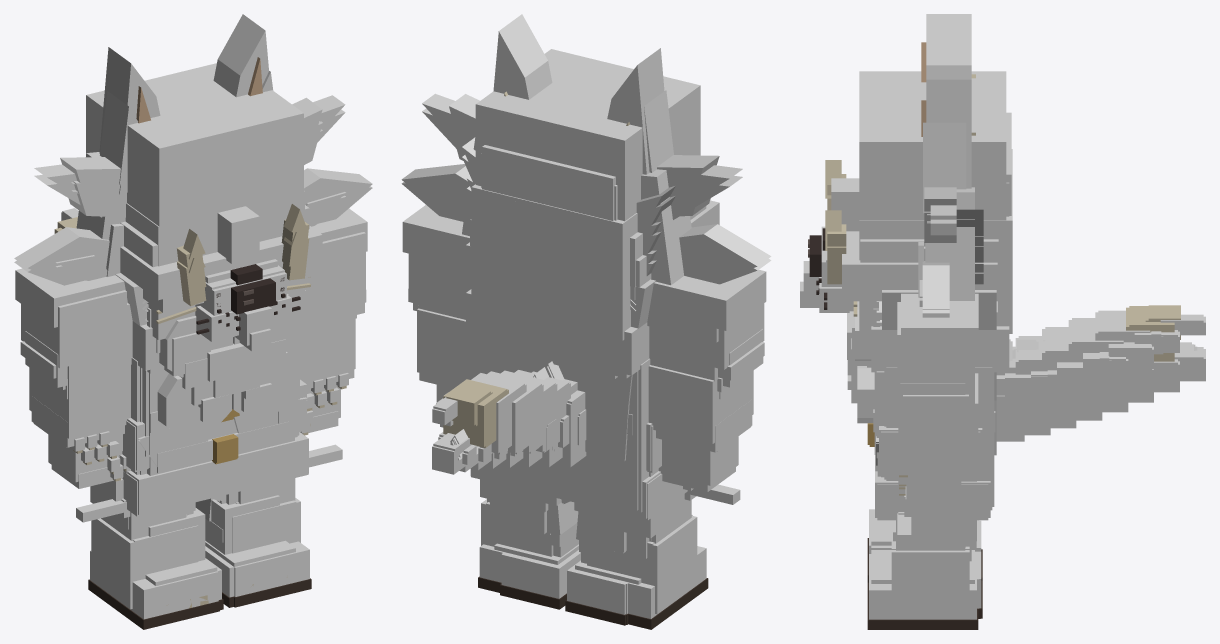
Rendered from race-kit.glb.
3 renders of one model, left to right at view 1: azimuth 30°, elevation 25°; view 2: azimuth 150°, elevation 25°; view 3: azimuth 270°, elevation 25°, orthographic. The views are drawn at different scales.
Visible parts, largest first — view 1: race-orc-male-head-cranium, race-orc-female-head-cranium, race-dwarf-female-torso-outfit-armor, race-orc-male-head-skin, race-dwarf-male-head-hair, race-goblin-male-head-skin, race-foxfolk-male-head-skin, race-orc-male-right-arm-skin, race-orc-female-head-skin, race-goblin-female-head-cranium, race-orc-female-right-arm-skin, race-dwarf-male-right-arm-outfit-armor (+56 smaller); view 2: race-goblin-female-head-cranium, race-orc-male-head-cranium, race-dwarf-female-torso-outfit-armor, race-orc-female-head-cranium, race-dwarf-female-head-cranium, race-dwarf-male-right-arm-outfit-armor, race-orc-male-torso-outfit-armor, race-foxfolk-male-head-cranium, race-foxfolk-male-head-skin, race-foxfolk-female-head-cranium, race-goblin-male-head-skin, race-orc-male-right-leg-leather-shoes (+55 smaller); view 3: race-orc-male-head-cranium, race-orc-female-head-cranium, race-orc-male-left-leg-leather-shoes, race-lizardfolk-male-tail-skin, race-dwarf-male-torso-outfit-armor, race-foxfolk-male-head-skin, race-orc-male-head-skin, race-dwarf-male-left-arm-outfit-armor, race-orc-male-left-arm-outfit-armor, race-orc-male-left-arm-skin, race-foxfolk-female-tail-skin, race-goblin-female-head-cranium (+29 smaller).
Boxes of the visible parts, x1,y1,x2,y2 form: race-orc-male-head-cranium: [86, 63, 309, 265]; race-orc-female-head-cranium: [86, 109, 309, 266]; race-dwarf-female-torso-outfit-armor: [127, 367, 308, 514]; race-orc-male-head-skin: [60, 97, 322, 300]; race-dwarf-male-head-hair: [164, 310, 296, 421]; race-goblin-male-head-skin: [14, 168, 372, 346]; race-foxfolk-male-head-skin: [99, 14, 277, 303]; race-orc-male-right-arm-skin: [21, 290, 126, 413]; race-orc-female-head-skin: [68, 121, 322, 312]; race-goblin-female-head-cranium: [125, 195, 304, 340]; race-orc-female-right-arm-skin: [34, 303, 132, 399]; race-dwarf-male-right-arm-outfit-armor: [29, 367, 130, 447]; race-goblin-female-head-cranium: [471, 191, 637, 340]; race-orc-male-head-cranium: [475, 49, 706, 269]; race-dwarf-female-torso-outfit-armor: [470, 342, 660, 518]; race-orc-female-head-cranium: [475, 100, 706, 287]; race-dwarf-female-head-cranium: [470, 299, 630, 379]; race-dwarf-male-right-arm-outfit-armor: [648, 365, 753, 452]; race-orc-male-torso-outfit-armor: [466, 242, 655, 461]; race-foxfolk-male-head-cranium: [482, 145, 615, 220]; race-foxfolk-male-head-skin: [493, 14, 664, 305]; race-foxfolk-female-head-cranium: [482, 153, 615, 220]; race-goblin-male-head-skin: [401, 164, 771, 282]; race-orc-male-right-leg-leather-shoes: [602, 516, 706, 618]; race-orc-male-head-cranium: [859, 71, 1006, 273]; race-orc-female-head-cranium: [859, 155, 1006, 288]; race-orc-male-left-leg-leather-shoes: [869, 550, 976, 619]; race-lizardfolk-male-tail-skin: [996, 347, 1203, 439]; race-dwarf-male-torso-outfit-armor: [877, 367, 992, 520]; race-foxfolk-male-head-skin: [879, 14, 997, 306]; race-orc-male-head-skin: [831, 178, 997, 289]; race-dwarf-male-left-arm-outfit-armor: [898, 373, 978, 473]; race-orc-male-left-arm-outfit-armor: [901, 293, 978, 357]; race-orc-male-left-arm-skin: [897, 302, 974, 442]; race-foxfolk-female-tail-skin: [996, 310, 1150, 375]; race-goblin-female-head-cranium: [859, 224, 1012, 333].
Size of the model in its own units: 1.85 by 2.77 by 1.88.
